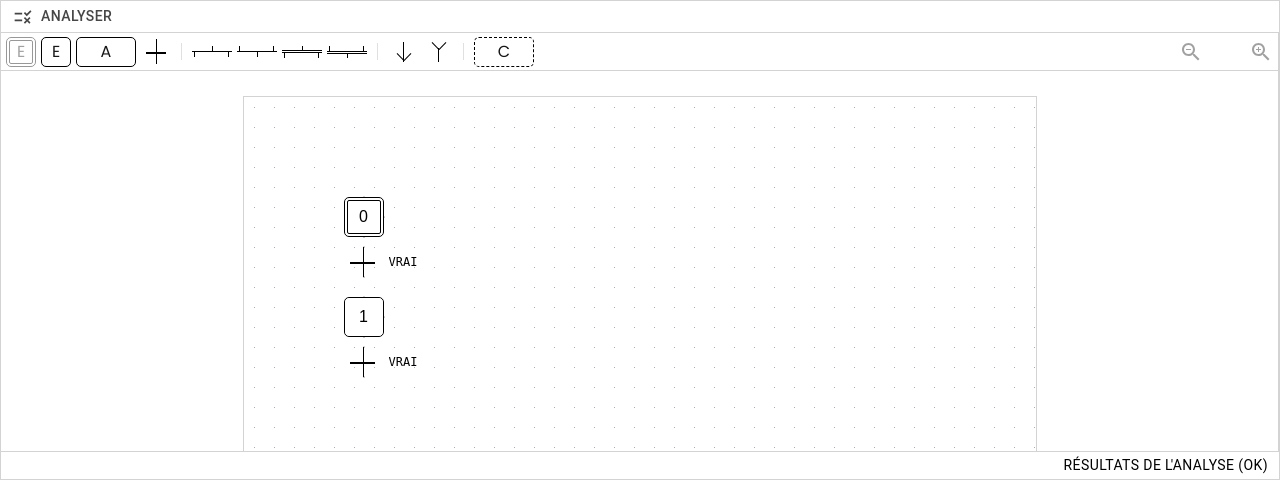
Test: EmbeddedApp › analysis panel › closes with its button
The width and height of the screenshot is (1280, 497).
Click the button "Résultats de l'analyse (OK)".
click(1166, 466)  # box [1061,452,1271,479]
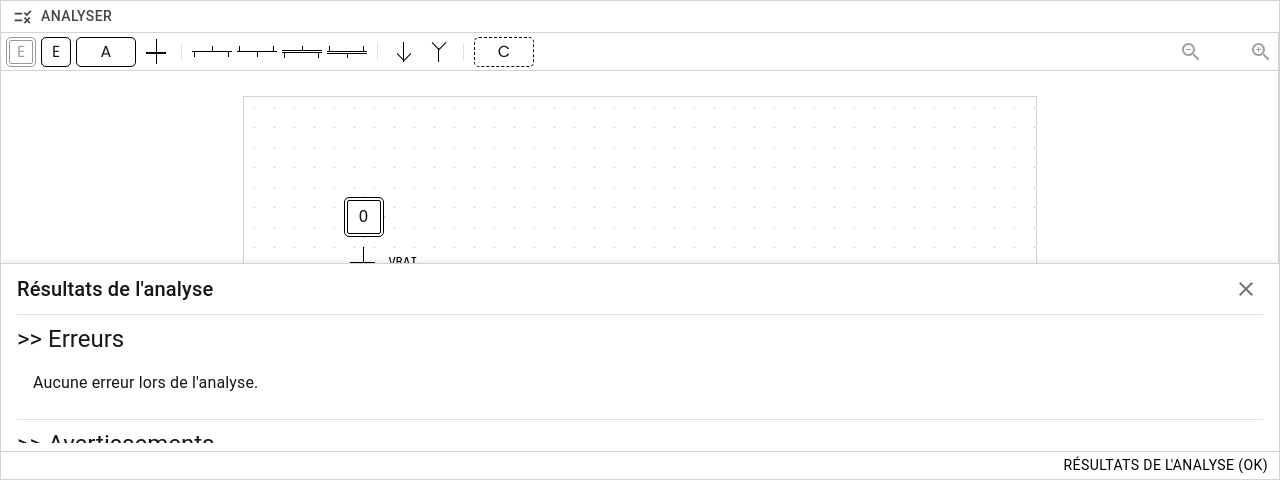
Click the button named "close-analysis-errors".
click(1246, 289)  # box [1229,272,1263,306]
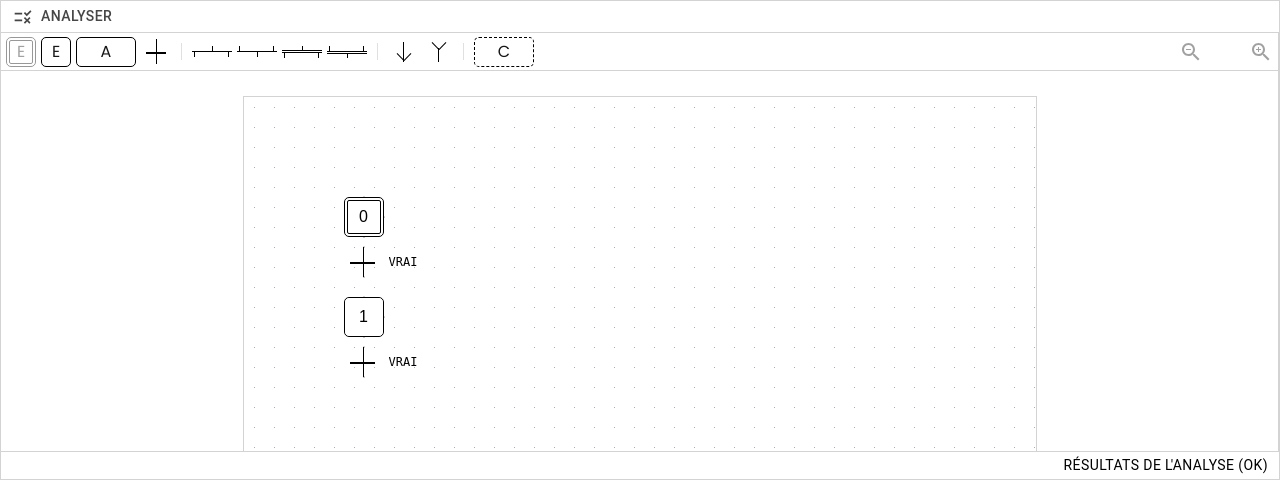
Expected: the button labelled "close-analysis-errors" is gone
